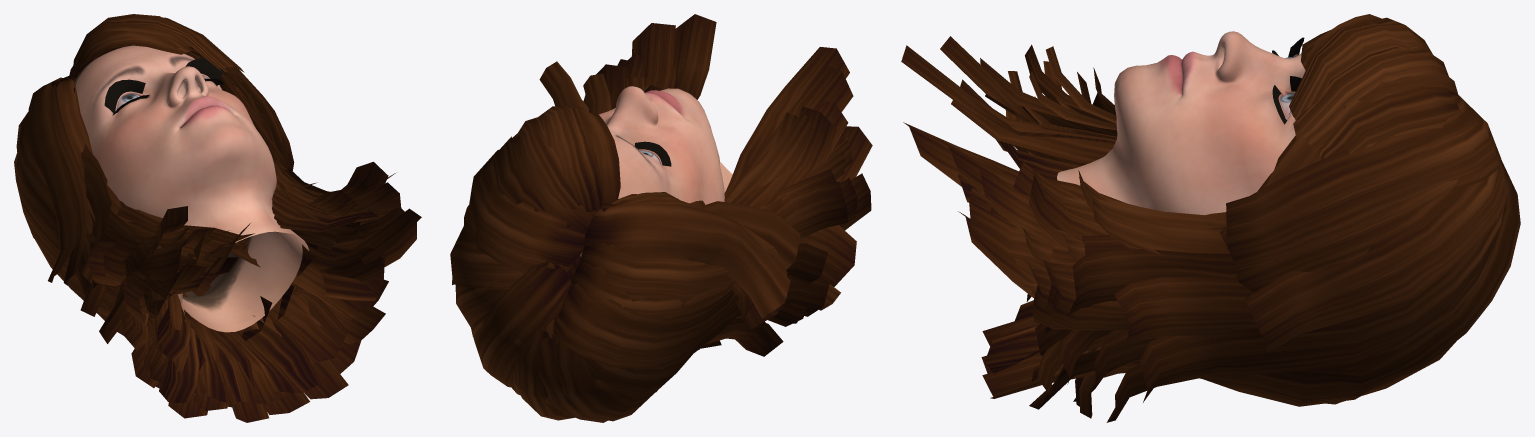
The model's file is woman_0_head.fbx.
3 views of the same model, side by side, from view 1: azimuth 30°, elevation 25°; view 2: azimuth 150°, elevation 25°; view 3: azimuth 270°, elevation 25° (orthographic). The views are drawn at different scales.
Visible parts, largest first — view 1: Hair, Body, Eyelashes; view 2: Hair, Body; view 3: Hair, Body, Eyelashes.
Part boxes in pixels (box(x1,y1,x2,y2)): Hair: box(14, 14, 421, 422); Body: box(75, 45, 309, 332); Eyelashes: box(104, 58, 223, 114); Hair: box(450, 14, 872, 422); Body: box(580, 86, 732, 256); Hair: box(901, 14, 1520, 422); Body: box(1057, 31, 1305, 215); Eyelashes: box(1272, 37, 1304, 124).
Size of the model in its own units: 2676 by 2614 by 3773.
Materials: 1 (1 with a texture image).
